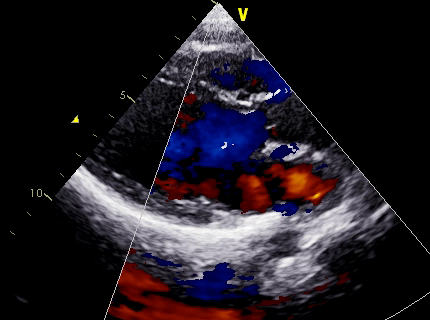MR: (158, 146, 215, 210)
